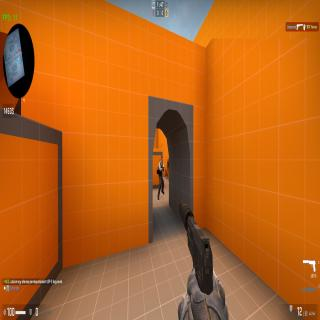T-Body: (157, 156, 165, 200)
T-Head: (161, 156, 163, 163)
